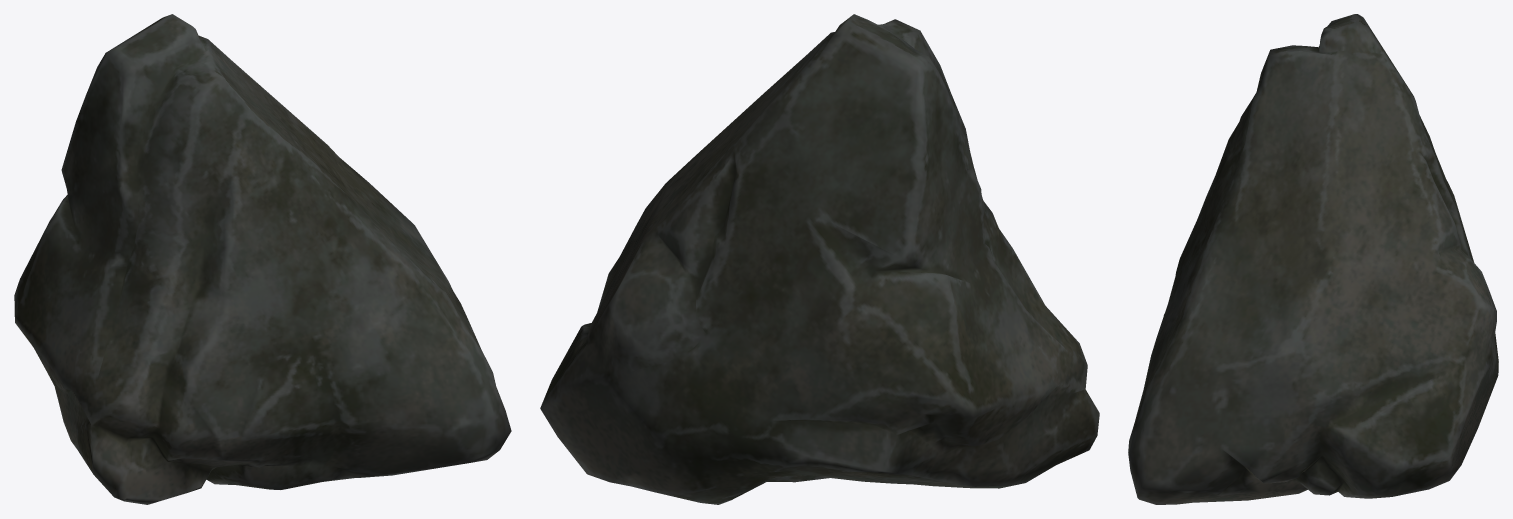
The picture shows the model from 3 angles, left to right: view 1: azimuth 30°, elevation 25°; view 2: azimuth 150°, elevation 25°; view 3: azimuth 270°, elevation 25°; orthographic projection. The views are drawn at different scales.
Parts seen in each view (by area): view 1: models_mountain_chunk_a-0-Material #35; view 2: models_mountain_chunk_a-0-Material #35; view 3: models_mountain_chunk_a-0-Material #35.
Boxes of the visible parts, bbox=[...] form: models_mountain_chunk_a-0-Material #35: bbox=[14, 14, 511, 504]; models_mountain_chunk_a-0-Material #35: bbox=[540, 14, 1099, 504]; models_mountain_chunk_a-0-Material #35: bbox=[1128, 14, 1498, 504].
Size of the model in its own units: 7.33 by 7.98 by 6.45.
1 material, 1 textured.
